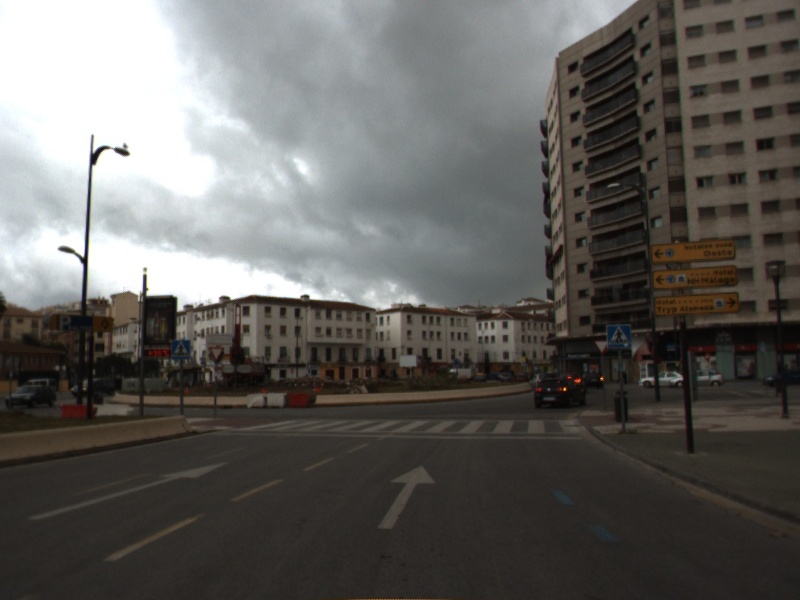STRAIGHT: (24, 459, 233, 523), (374, 461, 438, 532)
